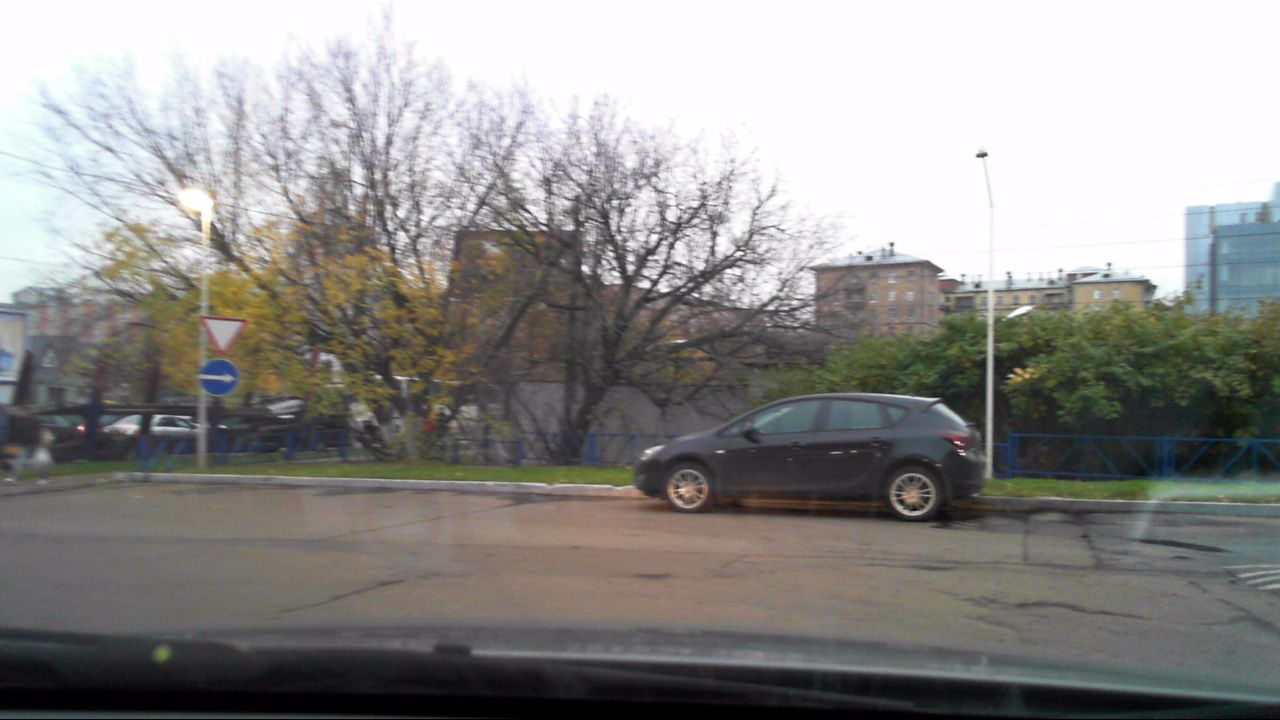Turn Right: (198, 358, 238, 396)
